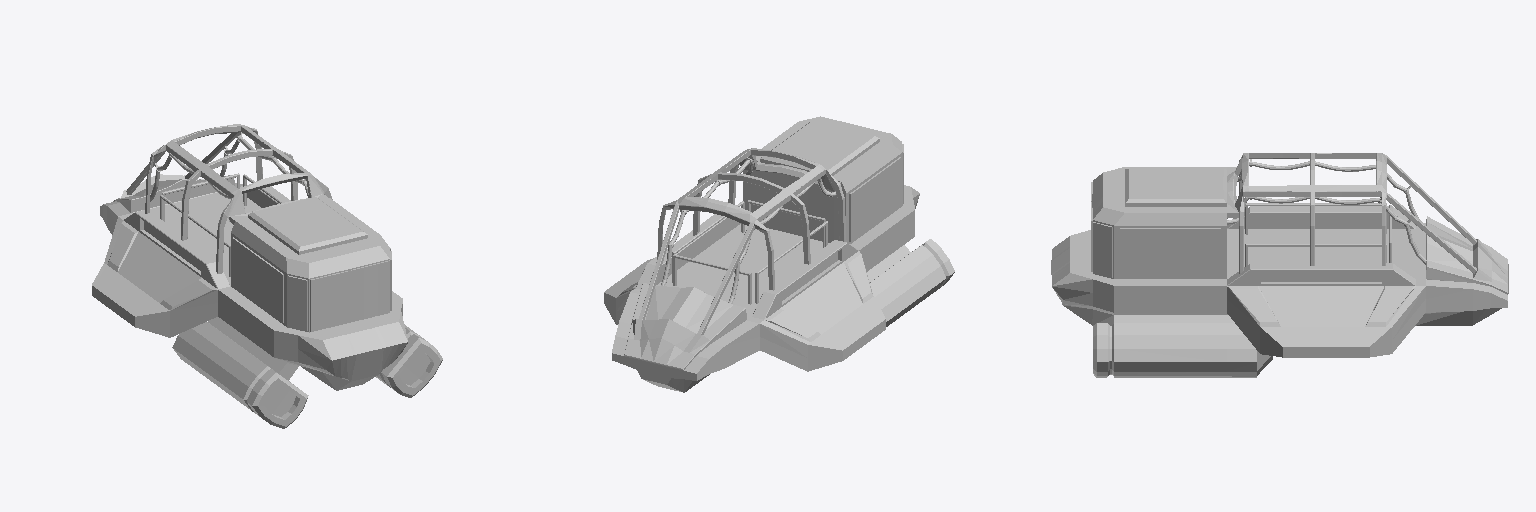
The model's file is ship_meshes_v2.obj.
The picture shows the model from 3 angles: view 1: azimuth 30°, elevation 25°; view 2: azimuth 150°, elevation 25°; view 3: azimuth 270°, elevation 25°; orthographic projection.
Parts seen in each view (by area): view 1: ship_v2, roof_v2, rails_v2, hoes; view 2: ship_v2, roof_v2, rails_v2, hoes; view 3: ship_v2, roof_v2, hoes, rails_v2.
Boxes of the visible parts, <box> form: ship_v2: <box>92,174,442,428</box>; roof_v2: <box>126,124,332,273</box>; rails_v2: <box>160,173,283,276</box>; hoes: <box>150,136,308,201</box>; ship_v2: <box>604,116,954,392</box>; roof_v2: <box>639,148,846,334</box>; rails_v2: <box>672,200,827,304</box>; hoes: <box>661,159,836,303</box>; ship_v2: <box>1051,167,1508,377</box>; roof_v2: <box>1227,153,1476,273</box>; hoes: <box>1227,161,1426,264</box>; rails_v2: <box>1245,203,1391,266</box>.
Size of the model in its own units: 9.25 by 6.72 by 15.31.